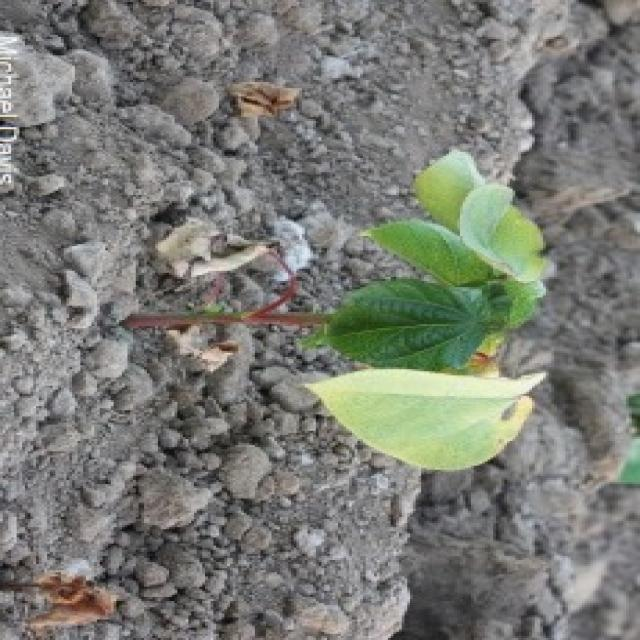Fusarium Wilt: (85, 156, 584, 477)
